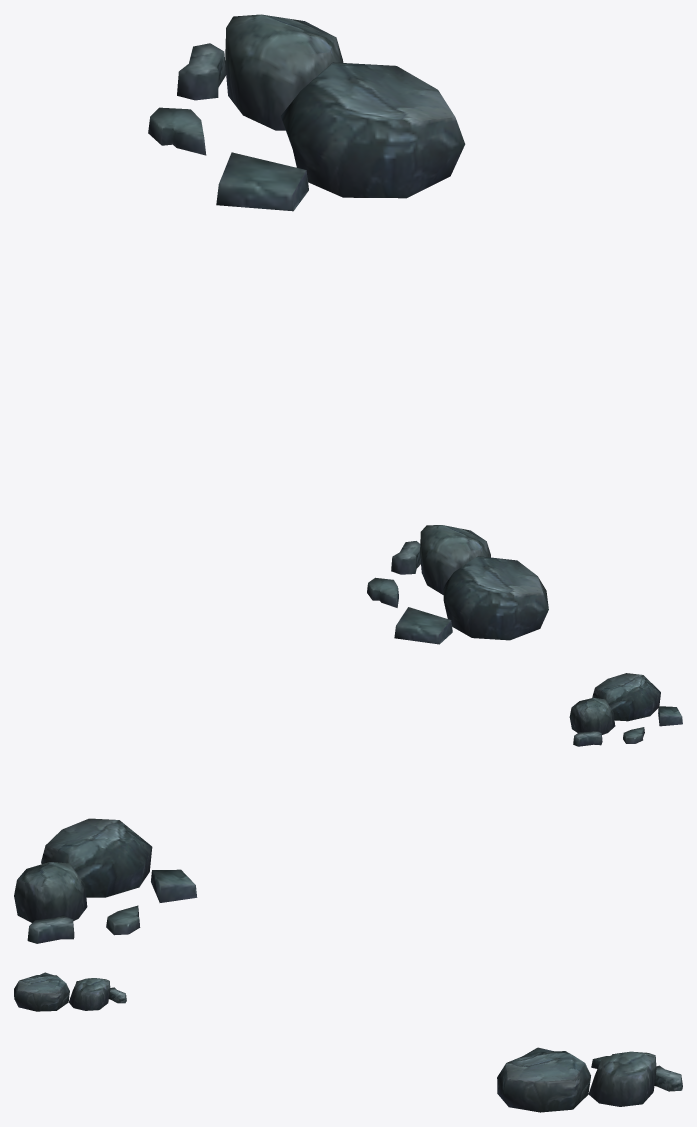
The model's file is Area_07_30.fbx.
3 renders of one model, top to bottom at view 1: azimuth 30°, elevation 25°; view 2: azimuth 150°, elevation 25°; view 3: azimuth 270°, elevation 25°, orthographic. The views are drawn at different scales.
Parts seen in each view (by area): view 1: Area_07_30; view 2: Area_07_30; view 3: Area_07_30.
Part boxes in pixels (box(x1,y1,x2,y2)): Area_07_30: box(148, 14, 548, 644); Area_07_30: box(14, 673, 682, 943); Area_07_30: box(14, 972, 682, 1112).
Size of the model in its own units: 1365 by 188 by 2868.
